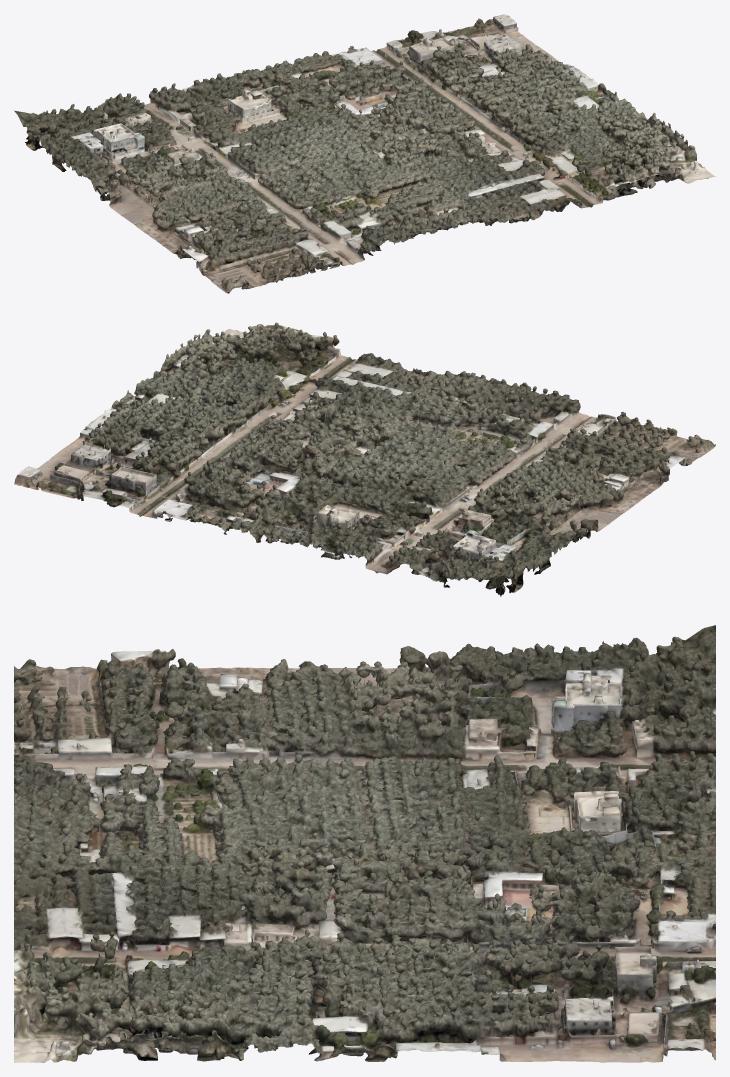
3 views of the same model, one above another, from view 1: azimuth 30°, elevation 25°; view 2: azimuth 150°, elevation 25°; view 3: azimuth 270°, elevation 25° (orthographic). The views are drawn at different scales.
Parts seen in each view (by area): view 1: SAU_002_M1_HajjiFarm; view 2: SAU_002_M1_HajjiFarm; view 3: SAU_002_M1_HajjiFarm.
Boxes of the visible parts, x1,y1,x2,y2 form: SAU_002_M1_HajjiFarm: (14,14,715,293); SAU_002_M1_HajjiFarm: (14,322,715,596); SAU_002_M1_HajjiFarm: (14,625,715,1062).
Size of the model in its own units: 327 by 18.66 by 248.
Materials: 1 (1 with a texture image).
